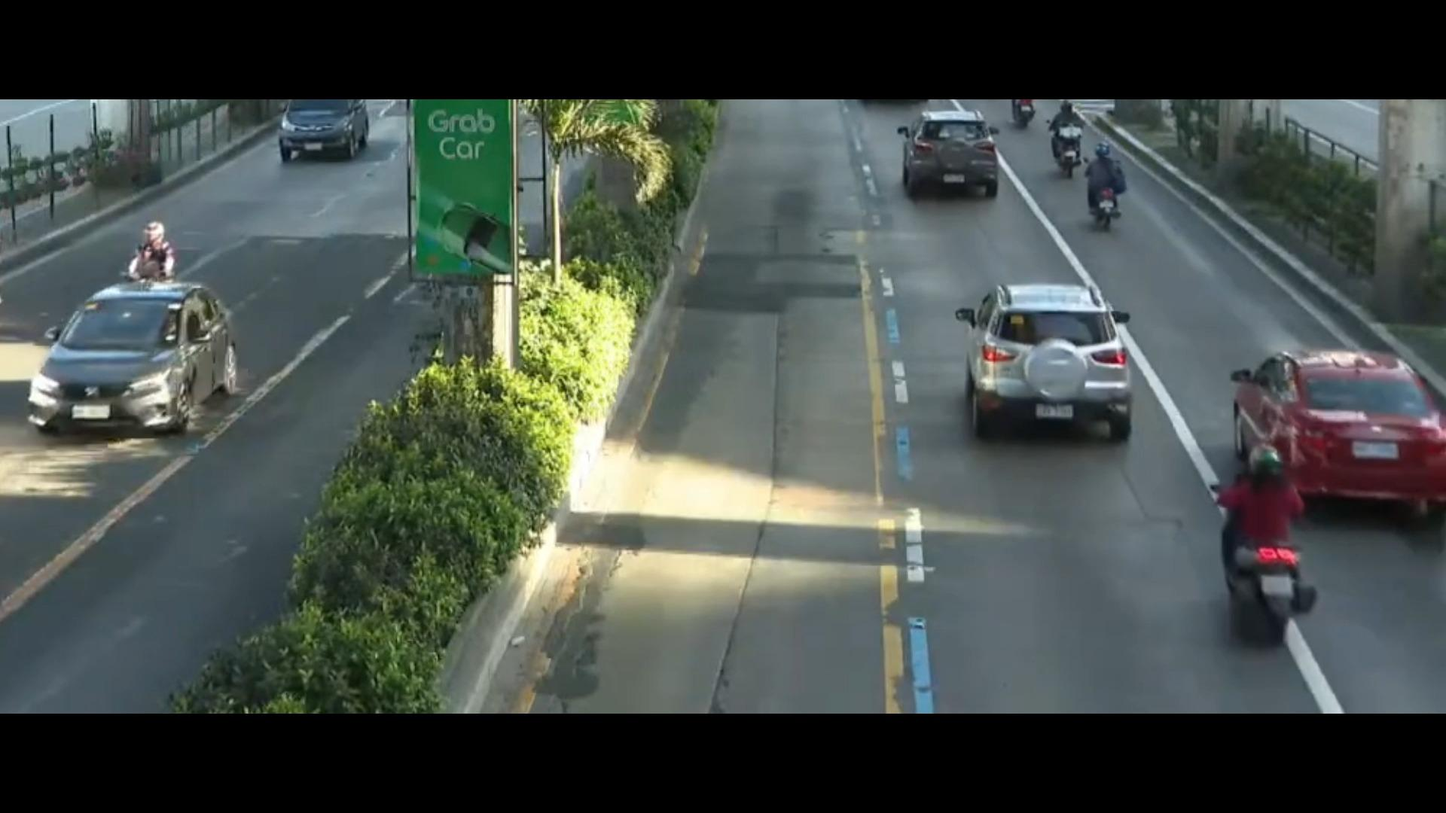Motorcycle: (1170, 431, 1340, 648), (1075, 157, 1147, 237), (1046, 115, 1106, 178), (138, 217, 177, 264), (1012, 96, 1038, 116)
SUV: (946, 249, 1131, 456), (869, 110, 1010, 215), (256, 99, 378, 175)
Sedan: (3, 283, 251, 461), (1219, 341, 1446, 533)
